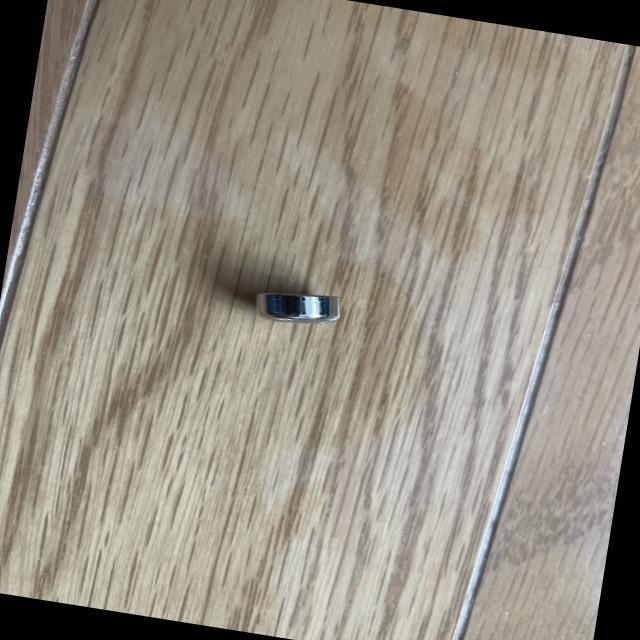COIN: (248, 277, 352, 338)
